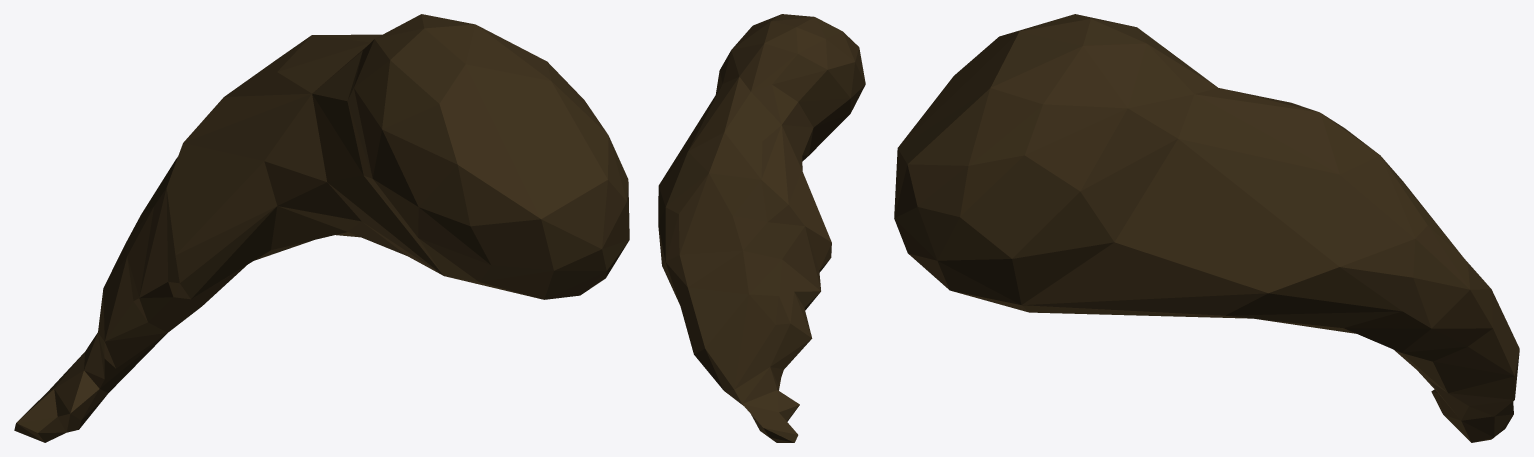
Rendered from mandible_r.dae.
3 renders of one model, left to right at view 1: azimuth 30°, elevation 25°; view 2: azimuth 150°, elevation 25°; view 3: azimuth 270°, elevation 25°, orthographic. The views are drawn at different scales.
Visible parts, largest first — view 1: ant-mandible-right; view 2: ant-mandible-right; view 3: ant-mandible-right.
Part boxes in pixels (x1,y1,x2,y2): ant-mandible-right: (14, 14, 629, 442); ant-mandible-right: (658, 14, 865, 442); ant-mandible-right: (894, 14, 1519, 442).
Bounding box in the file's own units: 1.37 × 2.14 × 1.9.
